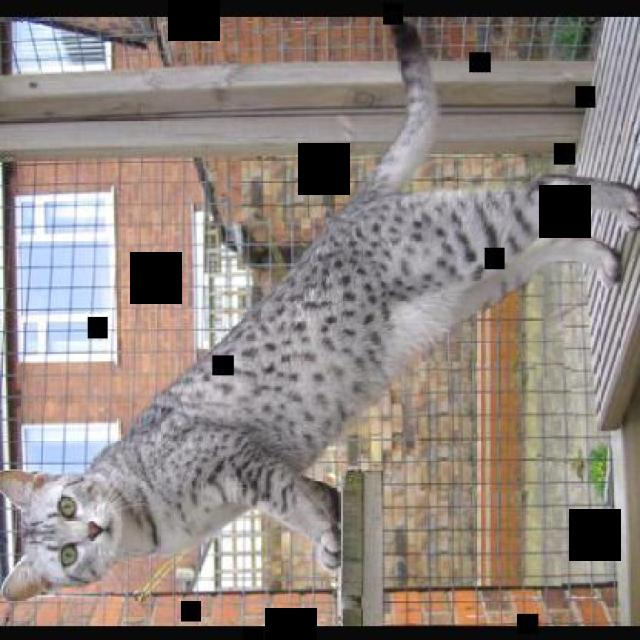unauthorized: (0, 20, 638, 601)
